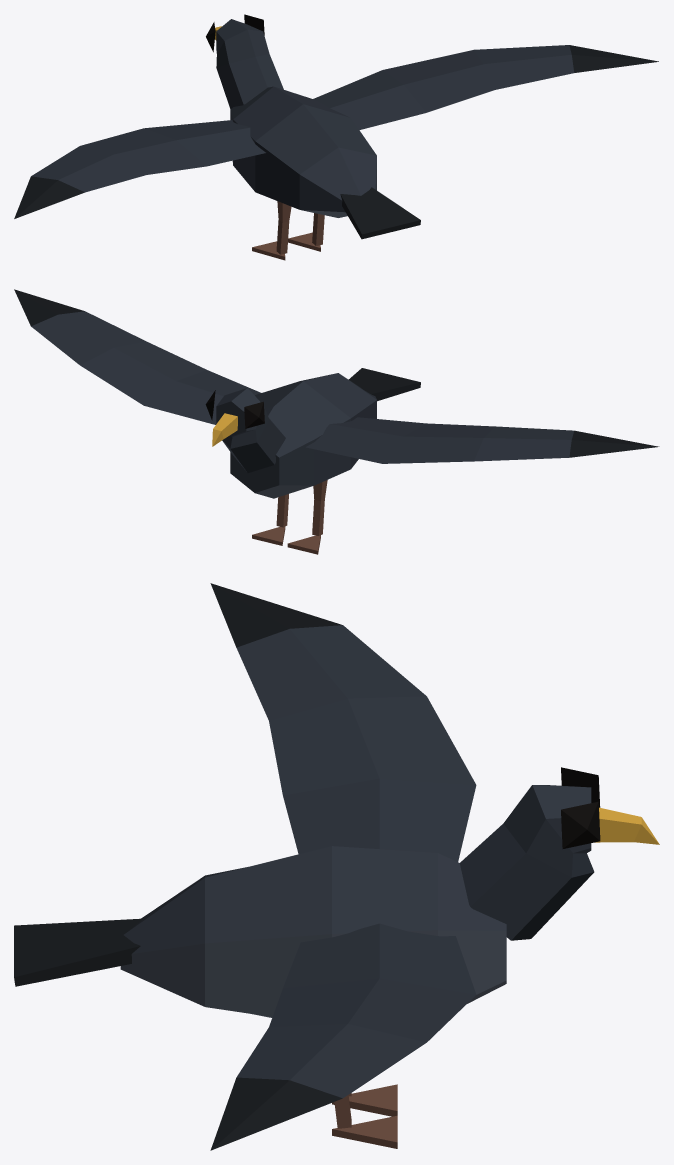
The model's file is bird_small.glb.
The picture shows the model from 3 angles, top to bottom: view 1: azimuth 30°, elevation 25°; view 2: azimuth 150°, elevation 25°; view 3: azimuth 270°, elevation 25°; orthographic projection. The views are drawn at different scales.
Parts seen in each view (by area): view 1: Body, Wing_R, Wing_L, Head, Tail, Leg_L, Leg_R; view 2: Wing_R, Wing_L, Body, Head, Tail, Leg_L, Leg_R; view 3: Wing_L, Body, Wing_R, Head, Tail, Leg_R, Leg_L.
Part boxes in pixels (x1,y1,x2,y2): Body: (230, 86, 376, 217); Wing_R: (313, 45, 658, 129); Wing_L: (14, 120, 265, 218); Head: (206, 14, 283, 109); Tail: (340, 187, 420, 239); Leg_L: (252, 201, 291, 260); Leg_R: (288, 213, 324, 251); Wing_R: (14, 289, 260, 424); Wing_L: (306, 417, 659, 463); Body: (230, 373, 376, 498); Head: (205, 388, 285, 472); Tail: (348, 368, 420, 401); Leg_L: (287, 480, 327, 554); Leg_R: (252, 494, 288, 545); Wing_L: (210, 583, 476, 861); Body: (120, 846, 506, 1017); Wing_R: (210, 923, 476, 1150); Head: (460, 767, 659, 940); Tail: (14, 918, 142, 986); Leg_R: (332, 1095, 397, 1148); Leg_L: (332, 1084, 397, 1116).
Size of the model in its own units: 0.4572 by 0.1259 by 0.2198.
